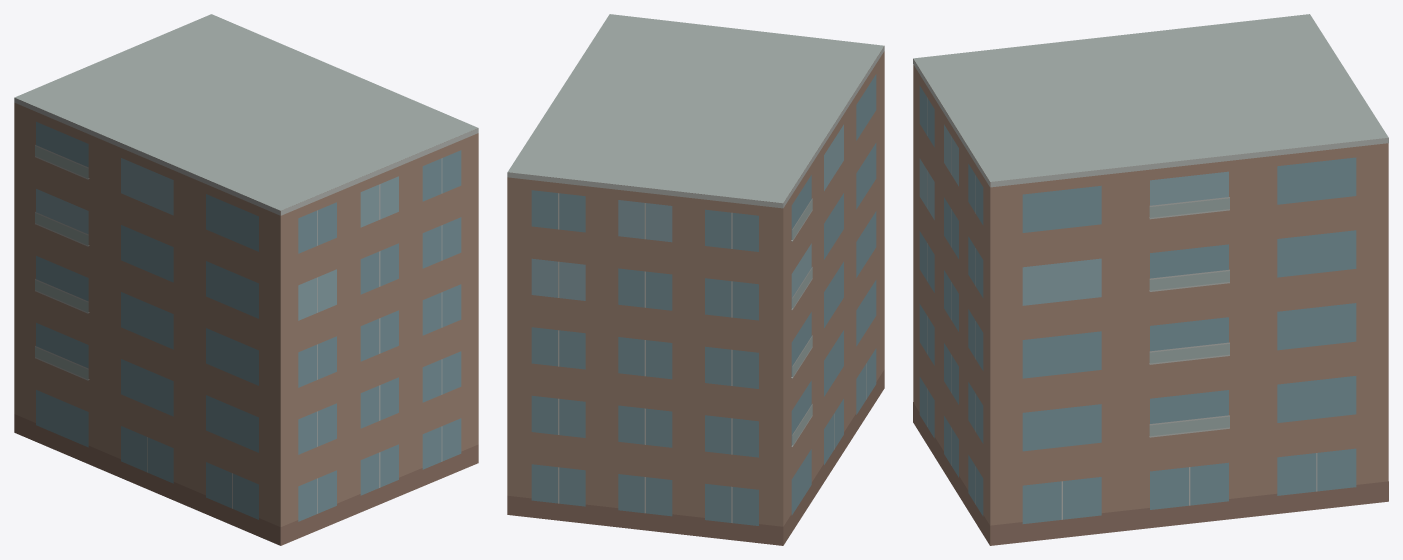
Rendered from survey-upis-33016904.glb.
The picture shows the model from 3 angles, left to right: view 1: azimuth 30°, elevation 25°; view 2: azimuth 150°, elevation 25°; view 3: azimuth 270°, elevation 25°; orthographic projection. The views are drawn at different scales.
Visible parts, largest first — view 1: survey-upis-33016904.tmp; view 2: survey-upis-33016904.tmp; view 3: survey-upis-33016904.tmp.
Part boxes in pixels (x1=…): survey-upis-33016904.tmp: x1=14, y1=14, x2=478, y2=545; survey-upis-33016904.tmp: x1=507, y1=14, x2=884, y2=545; survey-upis-33016904.tmp: x1=913, y1=14, x2=1388, y2=545.
Bounding box in the file's own units: 16.15 × 16.3 × 19.32.
